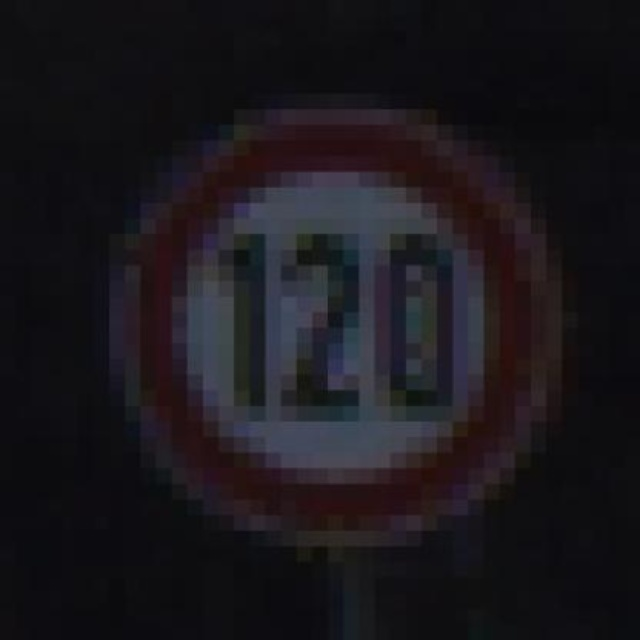Tốc độ tối đa cho phép 120km/h: (142, 119, 541, 539)
